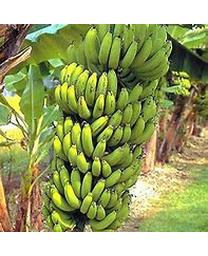banana: (43, 25, 171, 227)
